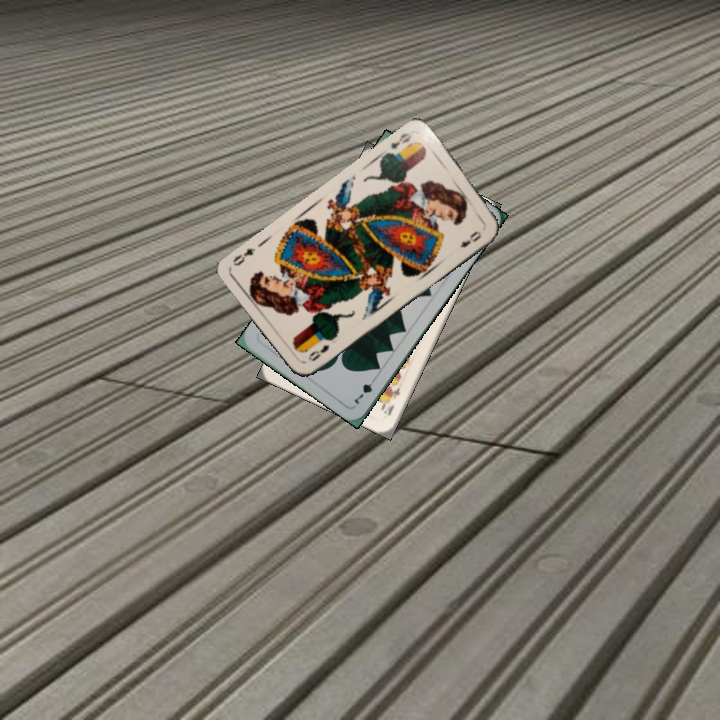E10: (378, 383, 403, 418)
EO: (304, 340, 332, 364), (387, 129, 414, 152)
G7: (350, 372, 380, 407)
